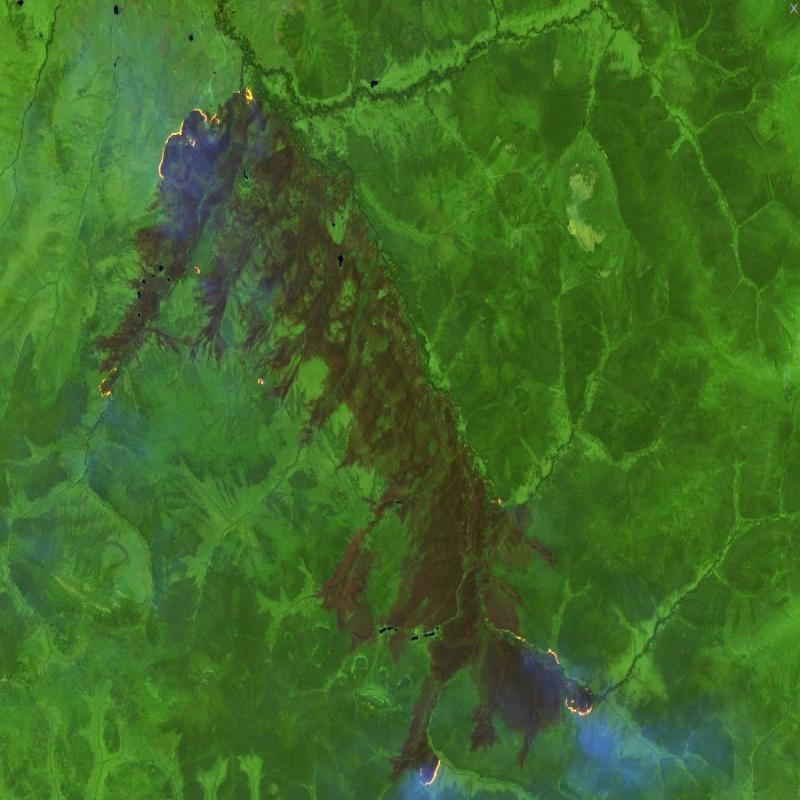fire: (154, 77, 257, 184), (504, 625, 596, 721), (413, 743, 450, 800), (90, 356, 126, 406)
